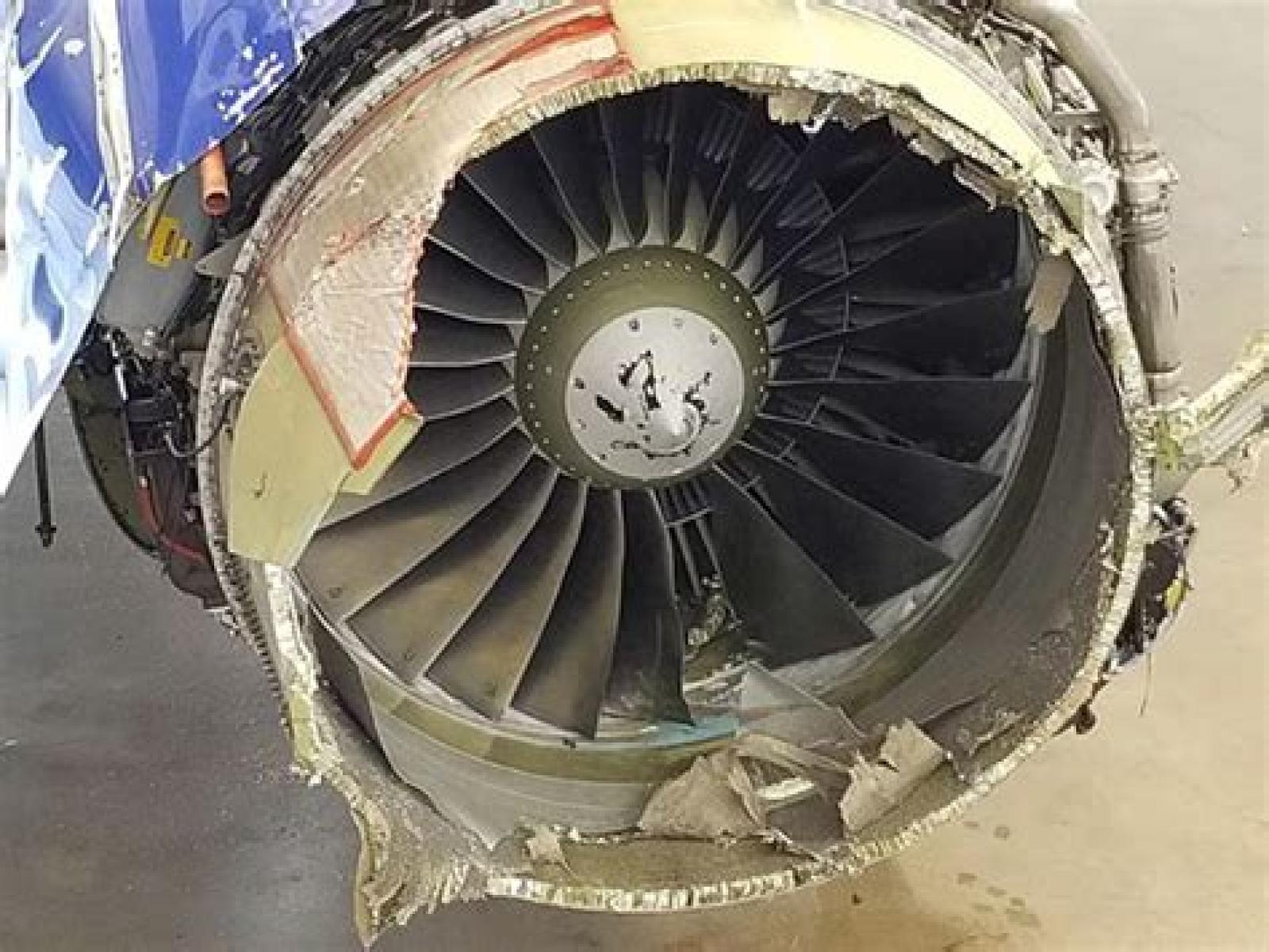Engine_damage: (64, 0, 1266, 911)
